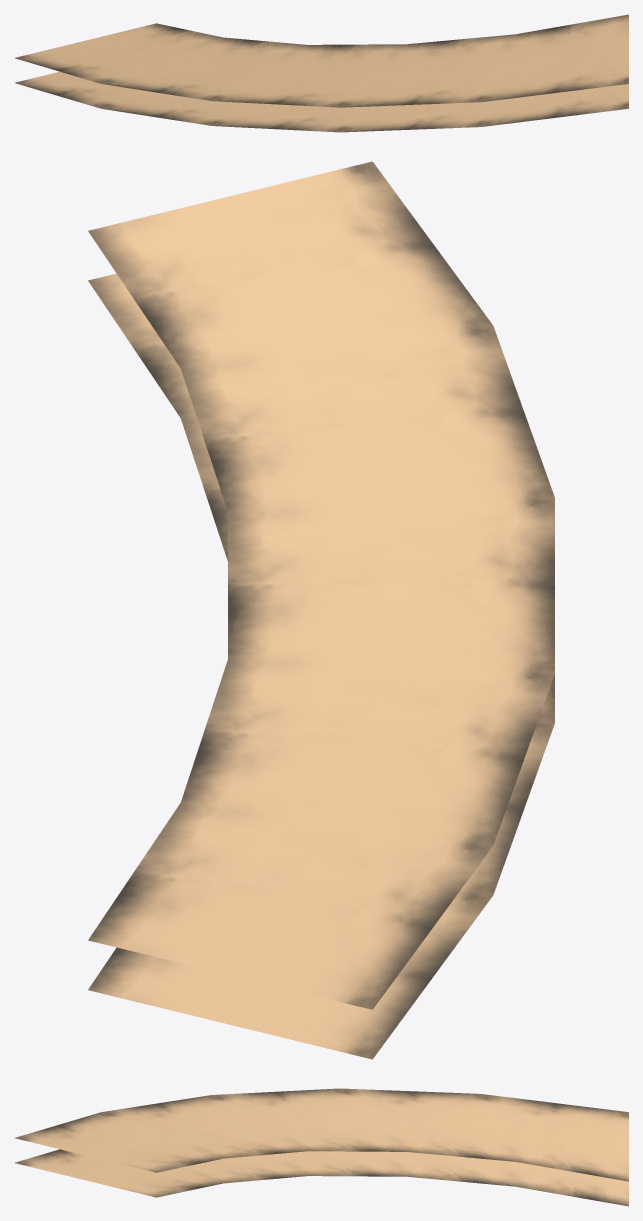
File: CourseSummer_Floor_8.fbx
3 renders of one model, top to bottom at view 1: azimuth 30°, elevation 25°; view 2: azimuth 150°, elevation 25°; view 3: azimuth 270°, elevation 25°, orthographic. The views are drawn at different scales.
Visible parts, largest first — view 1: polySurface48; view 2: polySurface48; view 3: polySurface48.
Part boxes in pixels (x1,y1,x2,y2): polySurface48: (14,14,628,132); polySurface48: (88,161,554,1059); polySurface48: (14,1088,628,1206).
Size of the model in its own units: 15.96 by 6 by 22.45.
Materials: 1 (1 with a texture image).
